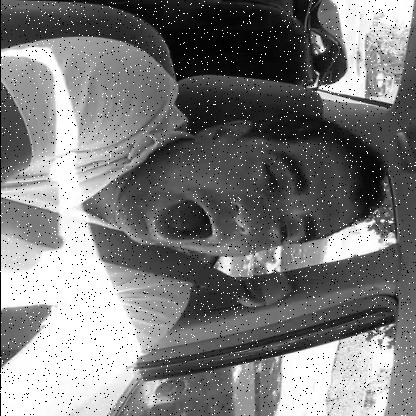seatbelt: (0, 86, 384, 304)
